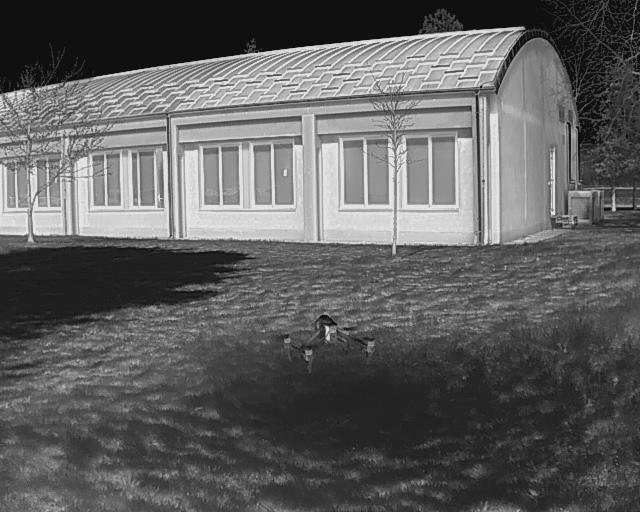drone: (272, 304, 386, 378)
